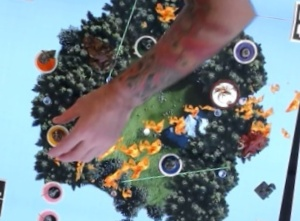blue: (156, 149, 187, 177)
green: (131, 30, 161, 61)
orange: (32, 46, 62, 76)
pink: (39, 177, 67, 206)
violet: (230, 35, 259, 65)
yellow: (45, 120, 70, 147)
